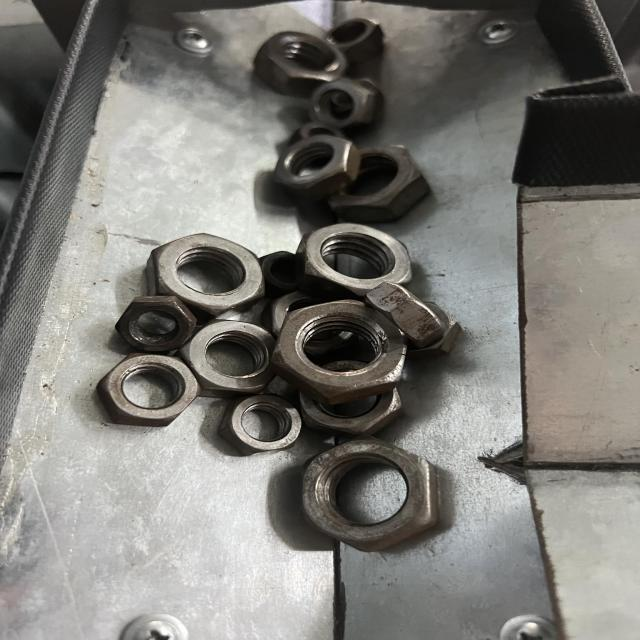nut: (298, 438, 440, 552), (278, 300, 408, 400), (100, 351, 200, 430), (222, 397, 304, 455)
